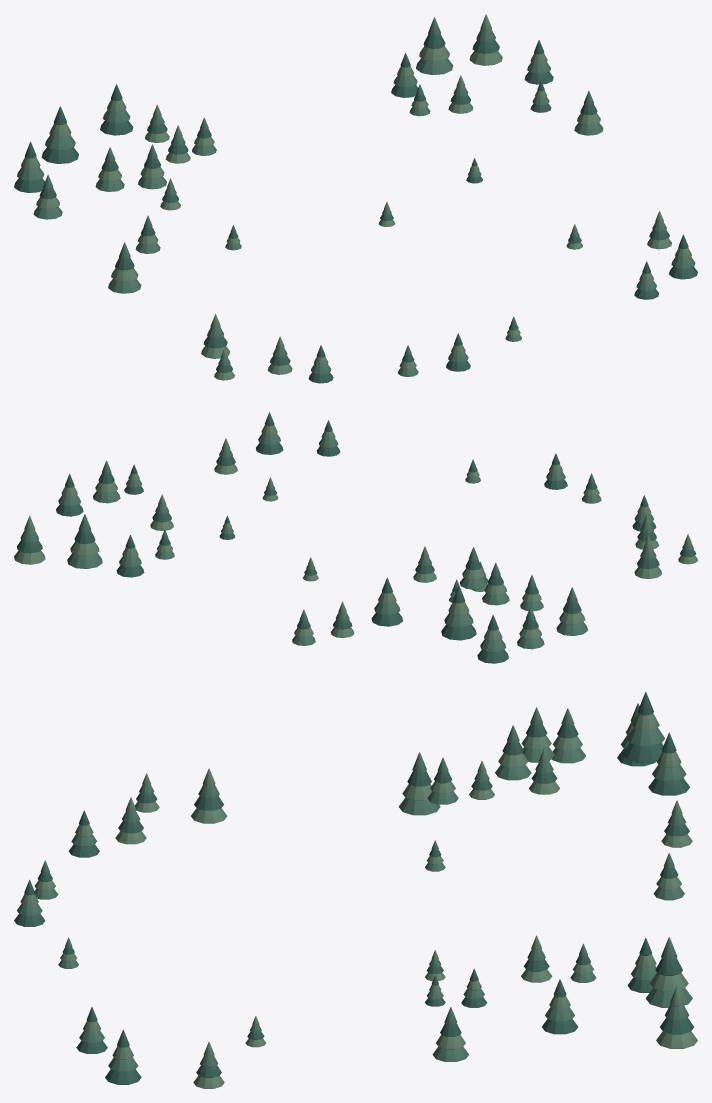
File: SM_Conifers.fbx
The picture shows the model from 3 angles, top to bottom: view 1: azimuth 30°, elevation 25°; view 2: azimuth 150°, elevation 25°; view 3: azimuth 270°, elevation 25°; orthographic projection. The views are drawn at different scales.
Parts seen in each view (by area): view 1: SM_Conifers; view 2: SM_Conifers; view 3: SM_Conifers.
Part boxes in pixels (x1=…): SM_Conifers: x1=14, y1=14, x2=697, y2=383; SM_Conifers: x1=14, y1=412, x2=697, y2=663; SM_Conifers: x1=14, y1=692, x2=697, y2=1088.
Bounding box in the file's own units: 9448 × 8770 × 1991.
